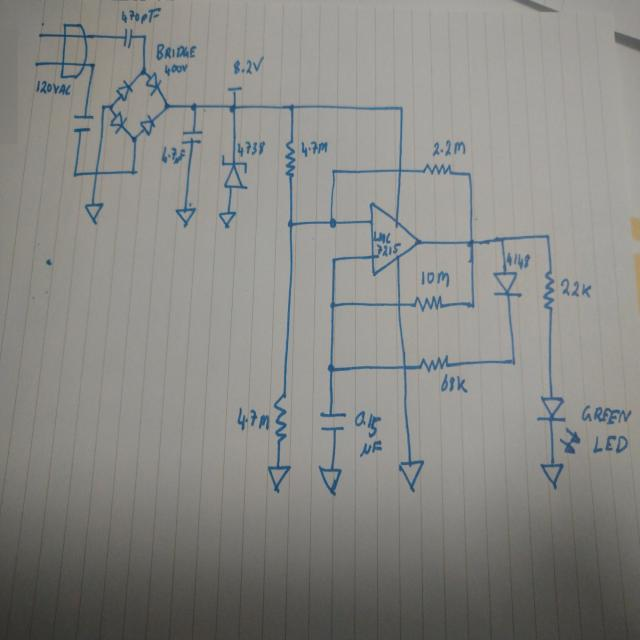capacitor: (318, 411, 347, 434), (72, 114, 94, 134), (182, 129, 202, 145), (122, 28, 132, 48)
crossover: (400, 362, 410, 372), (396, 167, 406, 176), (395, 300, 404, 309), (93, 169, 99, 177)
diode: (536, 394, 581, 456), (221, 154, 249, 191), (492, 271, 523, 298), (109, 111, 127, 134), (145, 72, 161, 96), (116, 80, 132, 102), (140, 115, 156, 136)
ground: (398, 460, 424, 492), (317, 464, 342, 496), (539, 461, 566, 490), (267, 464, 291, 492), (84, 201, 105, 225), (175, 206, 197, 228), (218, 211, 238, 229)
junction: (228, 102, 238, 115), (328, 216, 337, 229), (287, 102, 297, 113), (466, 238, 476, 249), (326, 363, 336, 373), (286, 218, 295, 229), (163, 100, 171, 112), (190, 102, 198, 112), (130, 168, 138, 178), (329, 300, 337, 310), (544, 232, 552, 242), (509, 356, 516, 366), (140, 66, 146, 77), (469, 300, 477, 308), (498, 236, 506, 244), (89, 61, 96, 70), (100, 103, 107, 112), (131, 134, 137, 144), (72, 171, 79, 179), (108, 102, 114, 110), (398, 104, 404, 112), (331, 256, 337, 264), (142, 33, 148, 40), (466, 171, 472, 178), (331, 168, 336, 175)
resistor: (272, 392, 288, 443), (419, 354, 449, 374), (542, 268, 556, 310), (412, 295, 443, 313), (284, 139, 297, 178), (422, 162, 452, 177)
terminal: (227, 84, 242, 94), (32, 60, 39, 68), (36, 32, 43, 38)
text: (354, 409, 383, 458), (581, 403, 631, 426), (236, 406, 270, 433), (120, 7, 162, 26), (155, 42, 197, 61), (372, 229, 400, 257), (590, 435, 629, 454), (560, 278, 592, 300), (431, 138, 467, 157), (232, 56, 264, 76), (440, 373, 469, 395), (35, 80, 71, 97), (420, 269, 450, 288), (237, 139, 266, 158), (300, 140, 328, 158), (160, 146, 186, 165), (505, 252, 531, 270), (163, 62, 189, 77)
